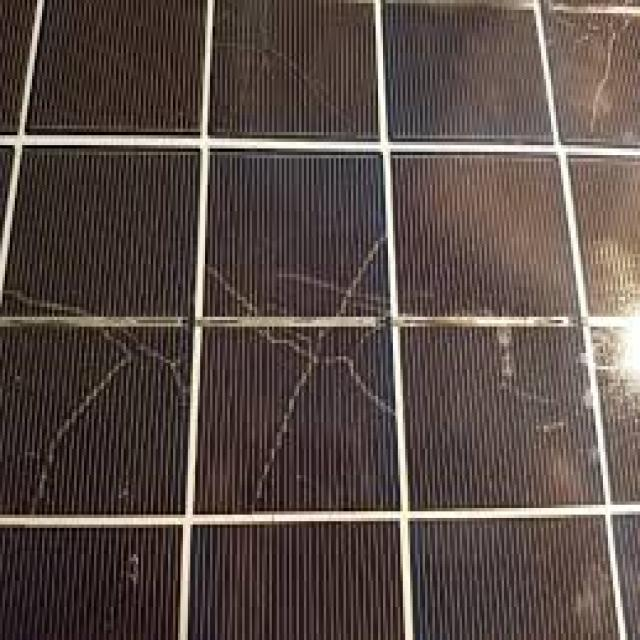faulty: (4, 9, 640, 634)
